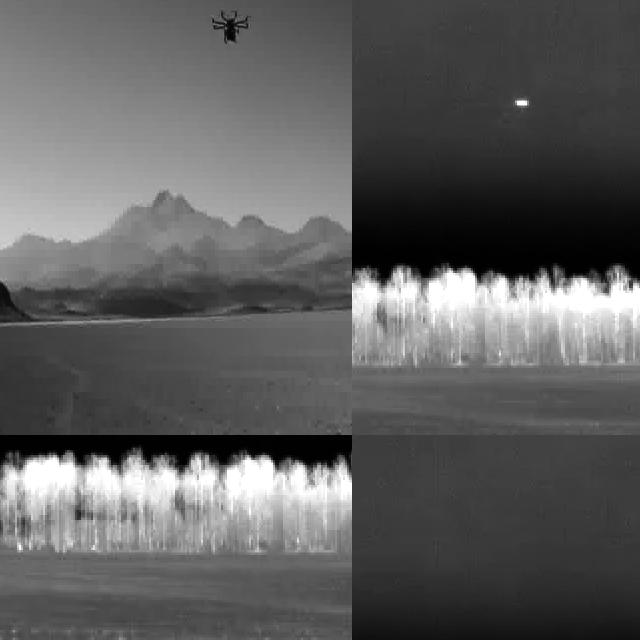1: (503, 96, 533, 116)
drone: (207, 3, 253, 54)
